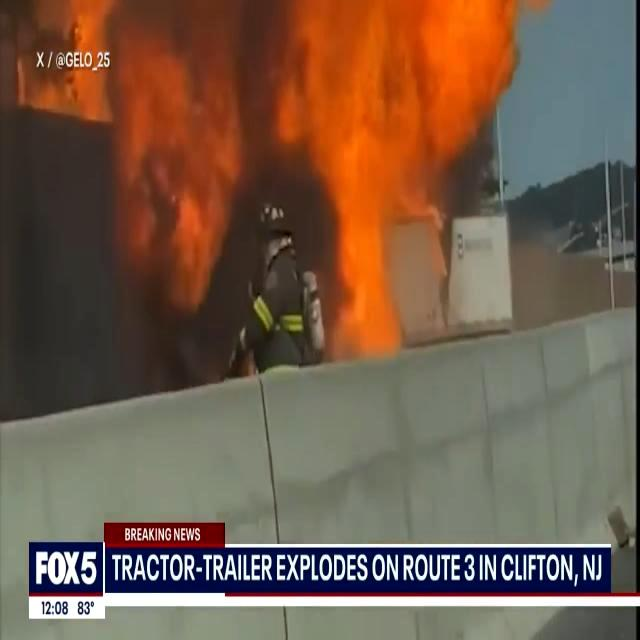fire: (108, 0, 232, 304), (301, 2, 515, 162), (324, 145, 412, 349)
